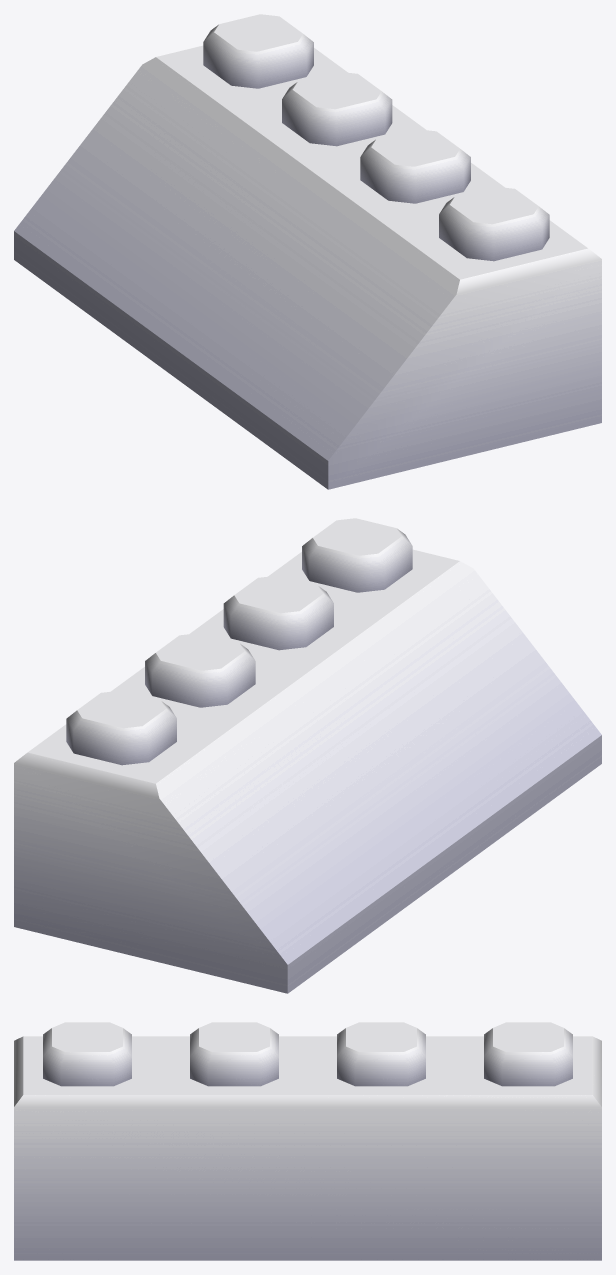
The model's file is bevel-hq-brick-slope-2x4.glb.
3 views of the same model, one above another, from view 1: azimuth 30°, elevation 25°; view 2: azimuth 150°, elevation 25°; view 3: azimuth 270°, elevation 25° (orthographic). The views are drawn at different scales.
Visible parts, largest first — view 1: bevel-hq-brick-slope-2x4; view 2: bevel-hq-brick-slope-2x4; view 3: bevel-hq-brick-slope-2x4.
Part boxes in pixels (<box>): bevel-hq-brick-slope-2x4: <box>14,14,601,489</box>; bevel-hq-brick-slope-2x4: <box>14,518,601,993</box>; bevel-hq-brick-slope-2x4: <box>14,1022,601,1260</box>.
Bounding box in the file's own units: 0.159 × 0.114 × 0.316.
1 material, 1 textured.
